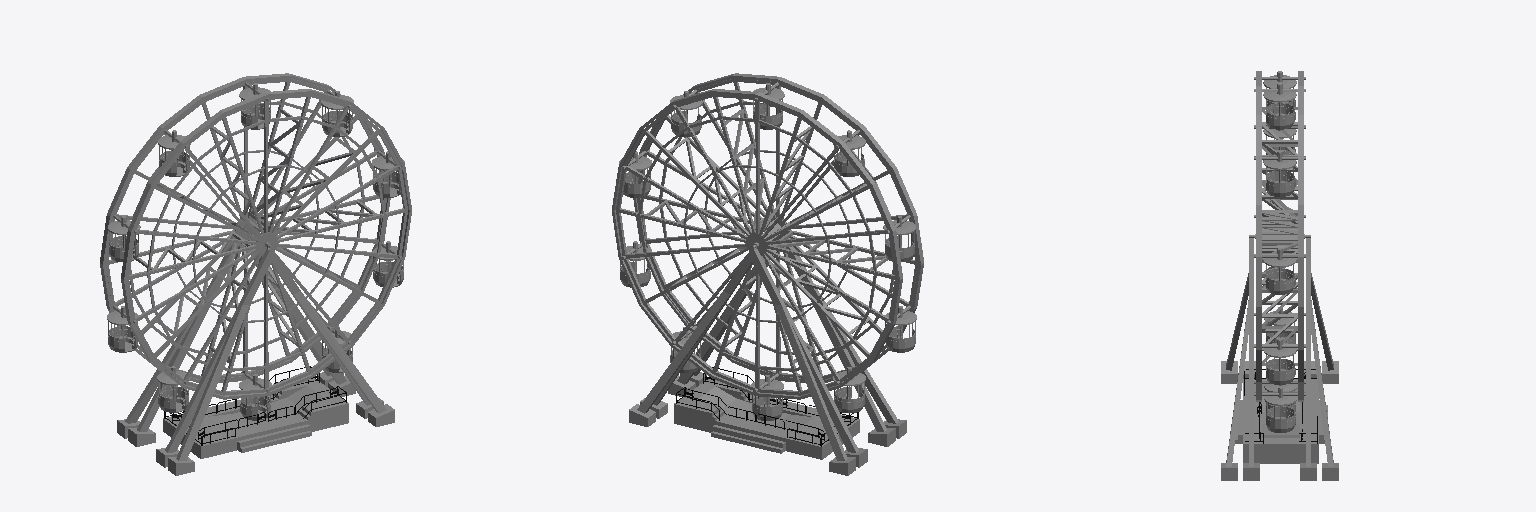
The model's file is RuedaFortuna.obj.
The picture shows the model from 3 angles: view 1: azimuth 30°, elevation 25°; view 2: azimuth 150°, elevation 25°; view 3: azimuth 270°, elevation 25°; orthographic projection.
Parts seen in each view (by area): view 1: wheel, mount, polySurface732, polySurface326, polySurface731, polySurface733, polySurface734, polySurface726, polySurface723, polySurface735, polySurface727; view 2: wheel, mount, polySurface732, polySurface326, polySurface731, polySurface734, polySurface726, polySurface733, polySurface735, polySurface723, polySurface727; view 3: mount, wheel, polySurface723, polySurface727, polySurface726, polySurface730, polySurface735.
Boxes of the visible parts, <box> form: wheel: <box>100,73,411,399</box>; mount: <box>117,240,394,475</box>; polySurface732: <box>107,305,138,352</box>; polySurface326: <box>157,366,189,412</box>; polySurface731: <box>239,371,271,420</box>; polySurface733: <box>107,215,140,261</box>; polySurface734: <box>158,130,190,176</box>; polySurface726: <box>372,149,404,197</box>; polySurface723: <box>321,90,353,136</box>; polySurface735: <box>239,82,270,129</box>; polySurface727: <box>372,238,403,287</box>; wheel: <box>612,73,923,399</box>; mount: <box>629,238,906,475</box>; polySurface732: <box>885,305,916,352</box>; polySurface326: <box>833,367,865,412</box>; polySurface731: <box>751,371,783,420</box>; polySurface734: <box>833,130,865,176</box>; polySurface726: <box>619,149,651,197</box>; polySurface733: <box>883,215,915,261</box>; polySurface735: <box>753,82,784,129</box>; polySurface723: <box>670,90,702,136</box>; polySurface727: <box>620,238,651,287</box>; mount: <box>1221,238,1338,480</box>; wheel: <box>1249,71,1310,401</box>; polySurface723: <box>1254,150,1305,196</box>; polySurface727: <box>1254,338,1305,384</box>; polySurface726: <box>1254,248,1305,294</box>; polySurface730: <box>1254,386,1305,432</box>; polySurface735: <box>1254,83,1305,129</box>.
Bounding box in the file's own units: 109 × 122 × 38.18.